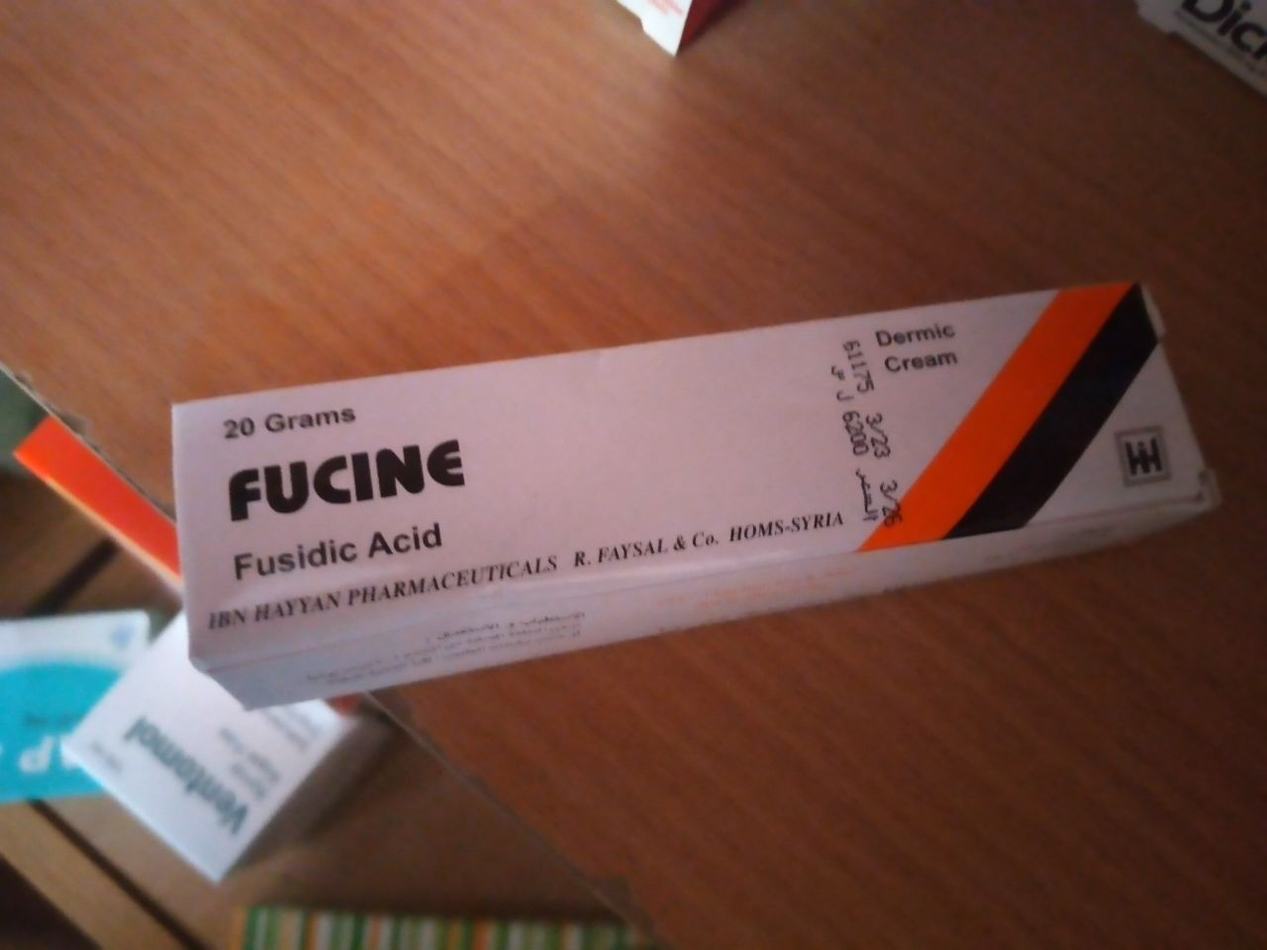Medicine: (186, 282, 1225, 717)
